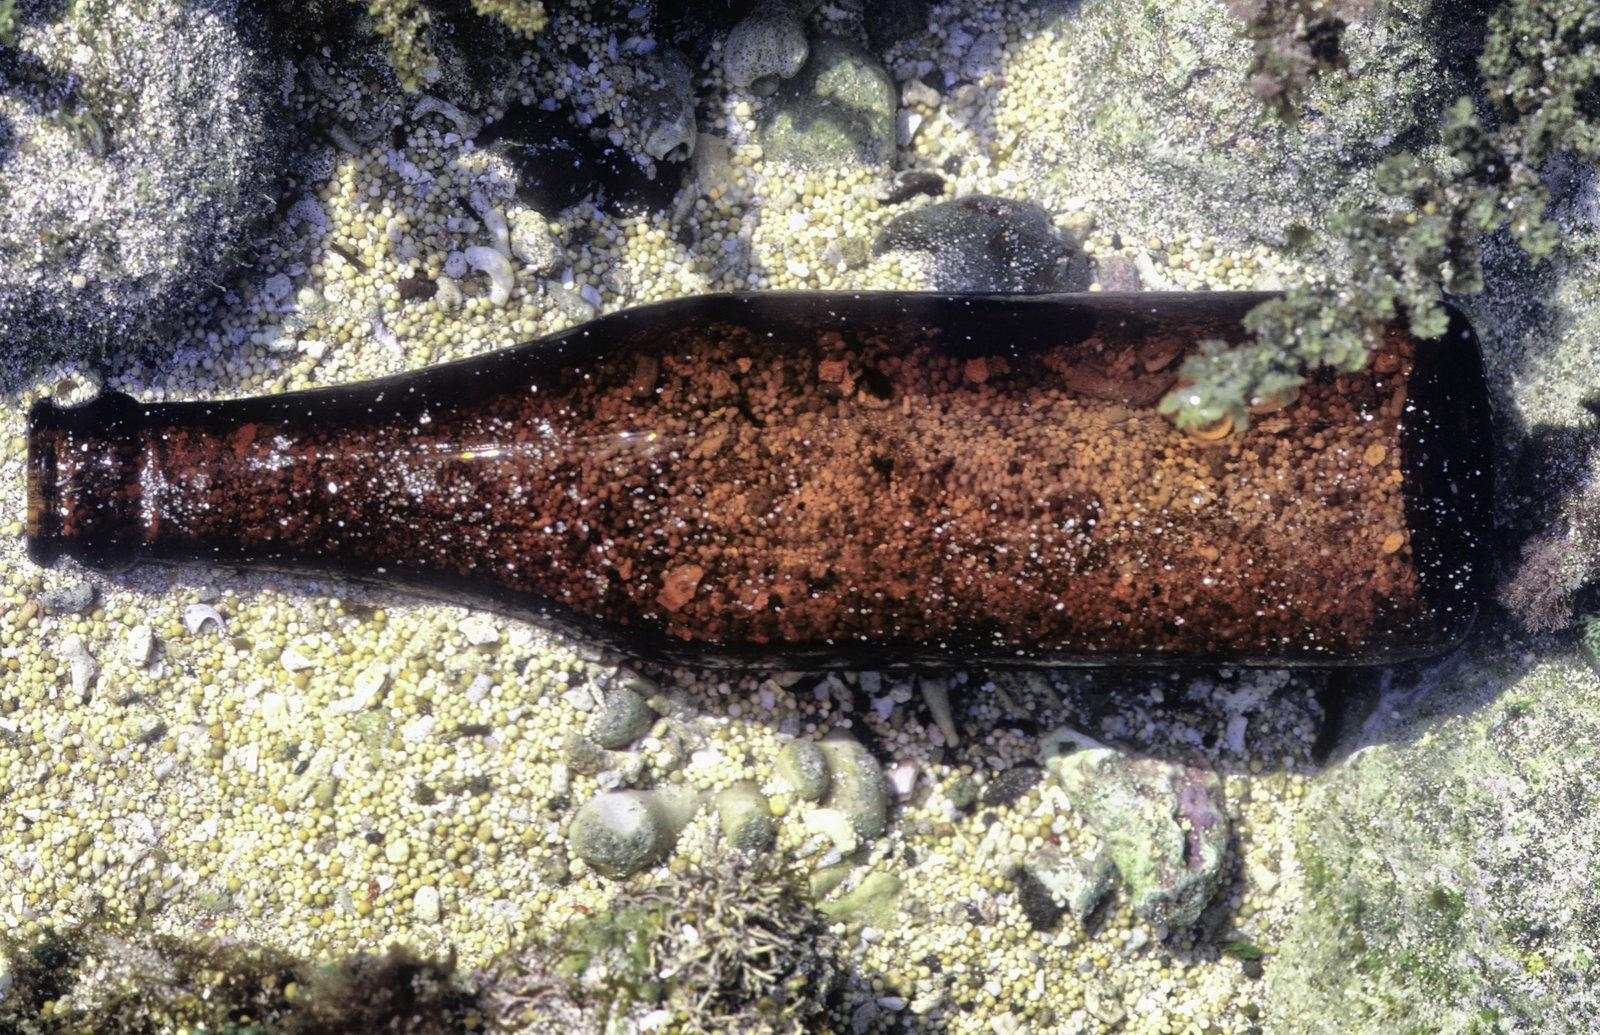Glass: (14, 276, 1517, 693)
